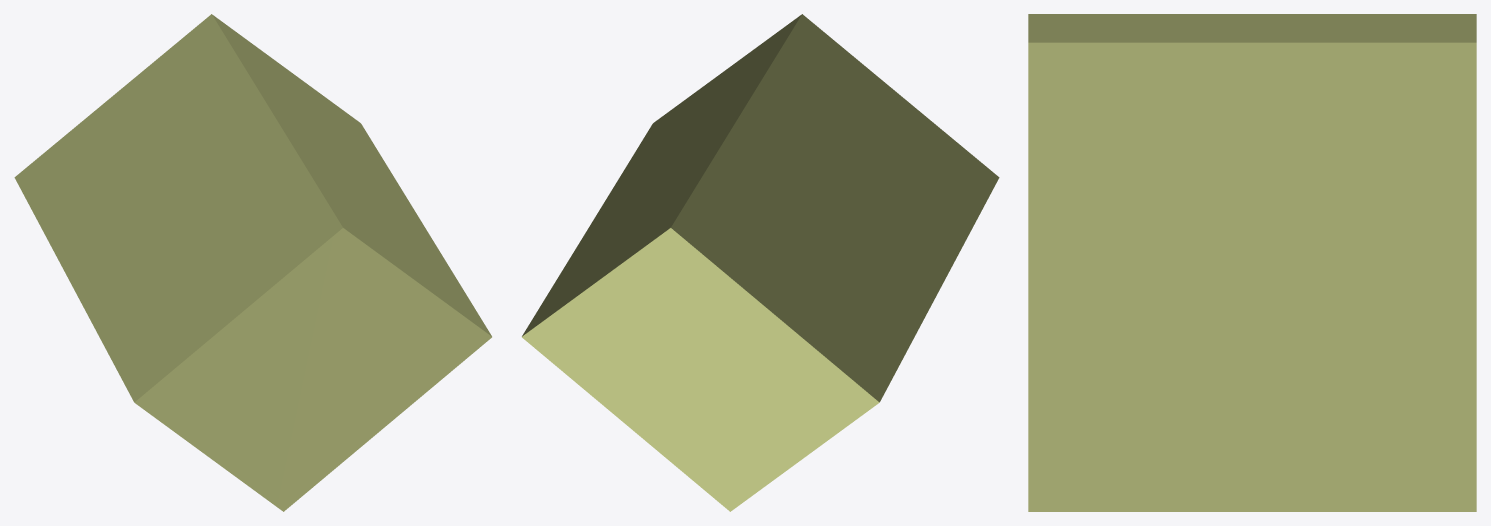
3 renders of one model, left to right at view 1: azimuth 30°, elevation 25°; view 2: azimuth 150°, elevation 25°; view 3: azimuth 270°, elevation 25°, orthographic. The views are drawn at different scales.
Visible parts, largest first — view 1: 0_1_2_0_3_3_0_2_1_3_2; view 2: 0_1_2_0_3_3_0_2_1_3_2; view 3: 0_1_2_0_3_3_0_2_1_3_2.
Boxes of the visible parts, <box> form: 0_1_2_0_3_3_0_2_1_3_2: <box>14,14,491,511</box>; 0_1_2_0_3_3_0_2_1_3_2: <box>522,14,999,511</box>; 0_1_2_0_3_3_0_2_1_3_2: <box>1028,14,1476,511</box>.
Size of the model in its own units: 11.44 by 12.29 by 9.
